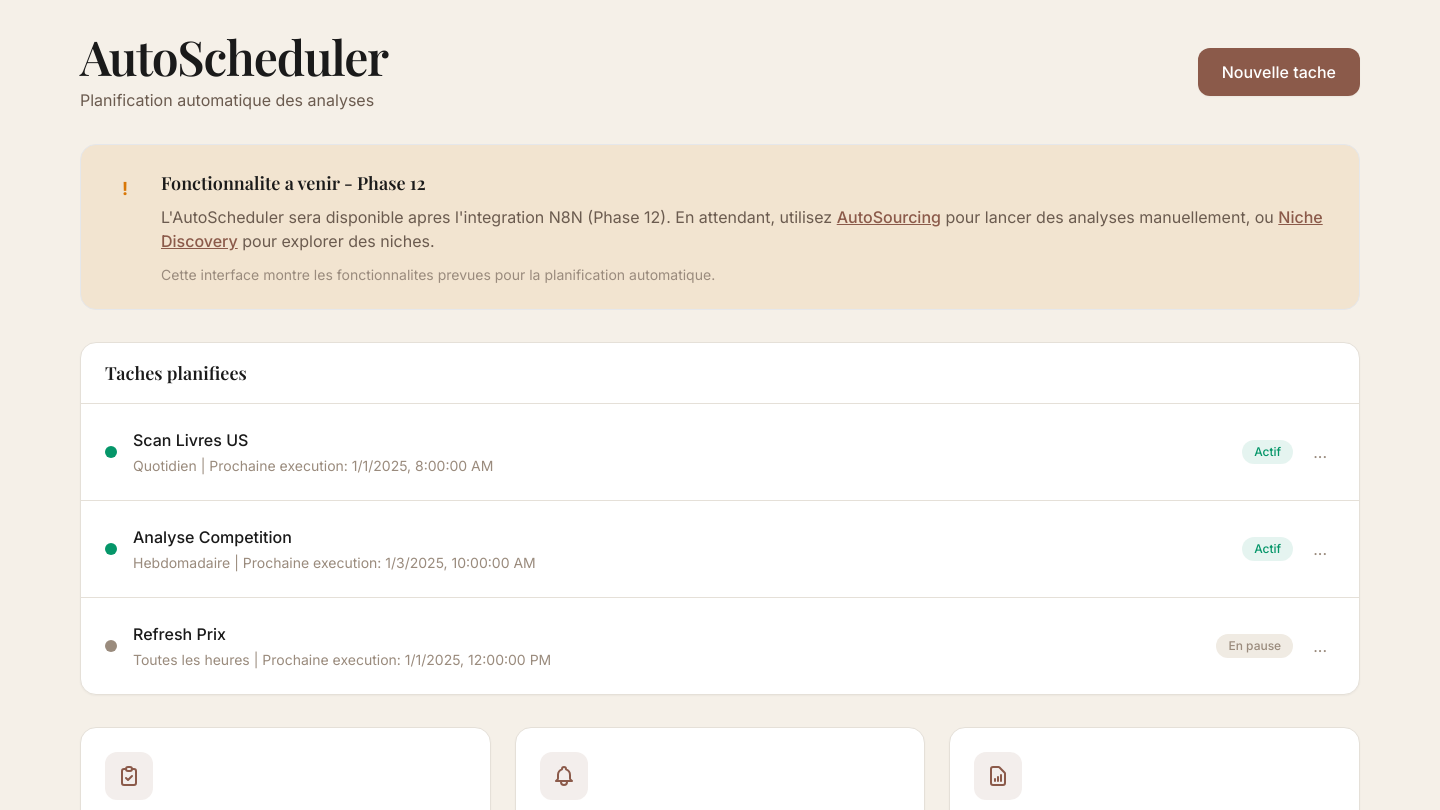
AutoScheduler › opens create modal on button click
The width and height of the screenshot is (1440, 810).
Click the button "Nouvelle tache": (1279, 72) [1198, 48, 1360, 96]
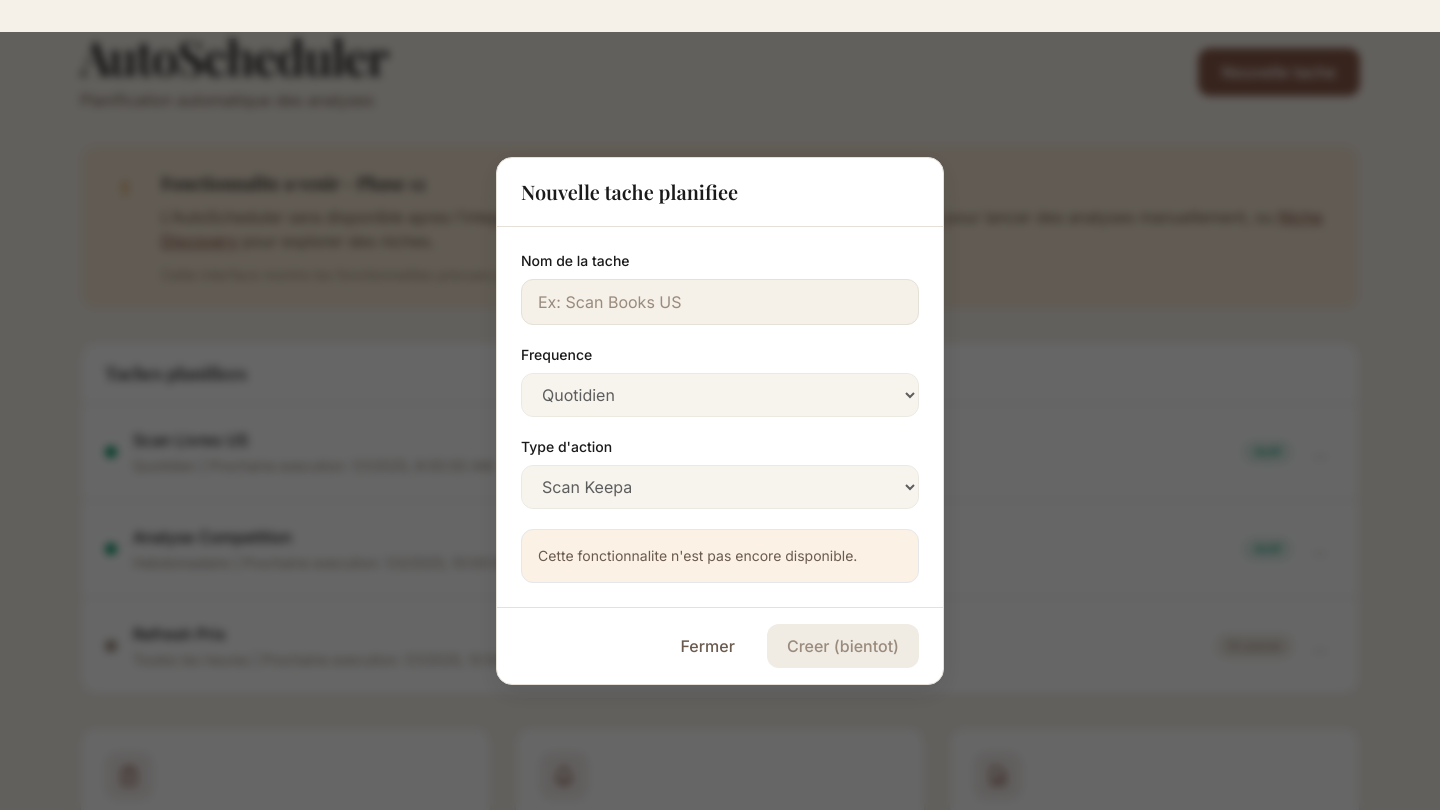
Check: the heading "Nouvelle tache planifiee" is shown, box [521, 178, 738, 205]
Check: the text "Nom de la tache" is shown, box [521, 252, 630, 269]
Check: the text "Frequence" is shown, box [521, 346, 592, 363]
